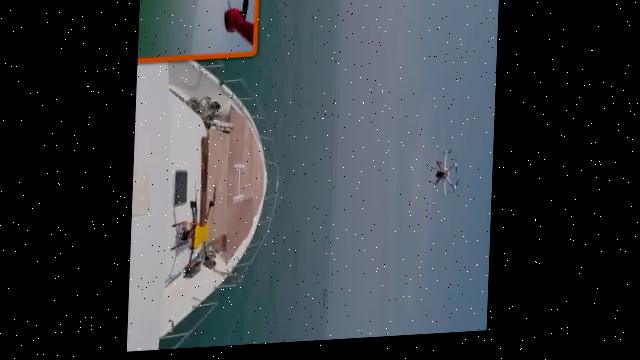drone: (430, 153, 466, 205)
